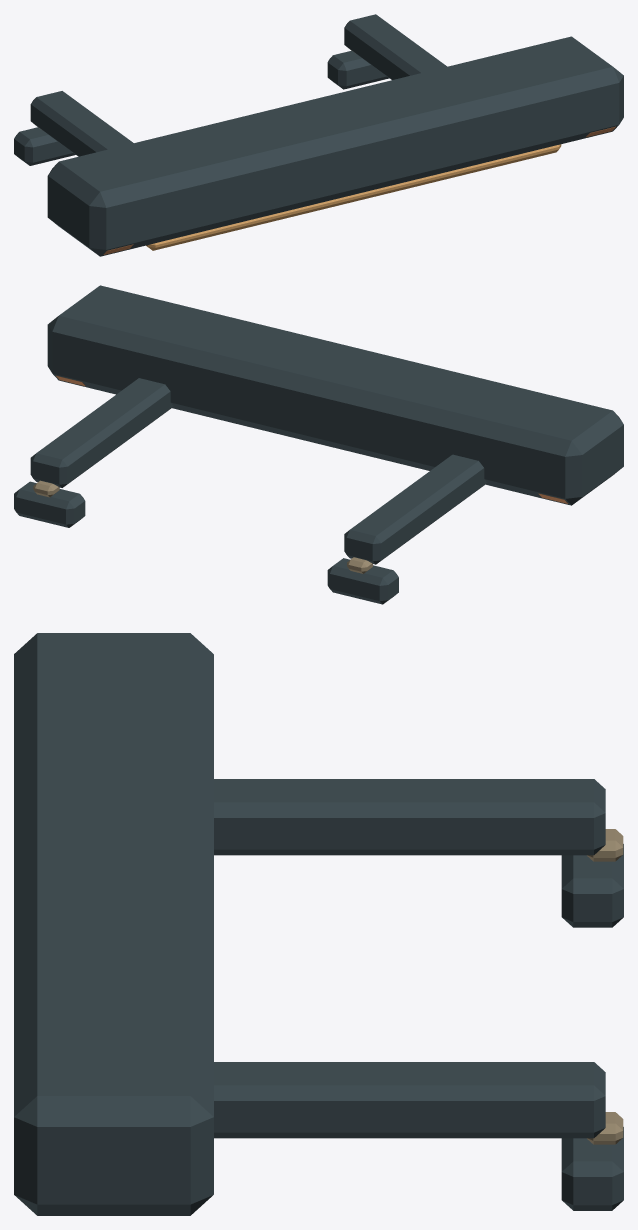
File: w11a-record-board-light.glb
3 views of the same model, one above another, from view 1: azimuth 30°, elevation 25°; view 2: azimuth 150°, elevation 25°; view 3: azimuth 270°, elevation 25° (orthographic). The views are drawn at different scales.
Visible parts, largest first — view 1: Two-board light shade, Cantilever arm, Cantilever arm.001, Frosted lens, Mount foot.001, Mount foot; view 2: Two-board light shade, Cantilever arm, Cantilever arm.001, Mount foot, Mount foot.001; view 3: Two-board light shade, Cantilever arm, Cantilever arm.001, Mount foot, Mount foot.001.
Boxes of the visible parts, <box> form: Two-board light shade: <box>47,36,623,256</box>; Cantilever arm: <box>30,91,133,156</box>; Cantilever arm.001: <box>344,14,446,79</box>; Frosted lens: <box>146,144,561,250</box>; Mount foot.001: <box>327,50,389,89</box>; Mount foot: <box>14,127,75,165</box>; Two-board light shade: <box>47,285,623,505</box>; Cantilever arm: <box>344,454,487,564</box>; Cantilever arm.001: <box>30,378,173,487</box>; Mount foot: <box>327,558,398,604</box>; Mount foot.001: <box>14,481,85,527</box>; Two-board light shade: <box>14,633,213,1215</box>; Cantilever arm: <box>214,779,605,855</box>; Cantilever arm.001: <box>214,1062,605,1138</box>; Mount foot: <box>561,844,623,927</box>; Mount foot.001: <box>561,1127,623,1210</box>.
Bounding box in the file's own units: 0.88 × 0.155 × 0.47.
